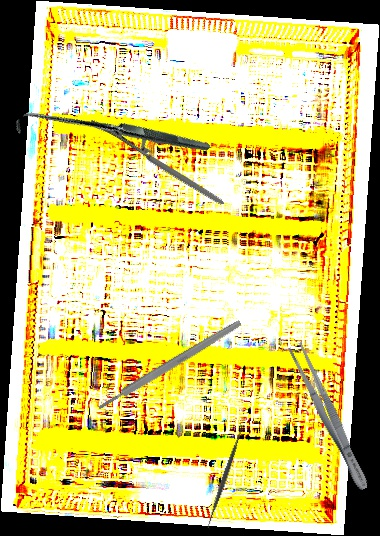Dressing Forceps: (284, 340, 375, 494)
Hook Surgical: (12, 36, 211, 236)
Needle Holder: (87, 87, 225, 239)
Scalpel Handle: (96, 318, 243, 412)
Spatula Surgical: (201, 422, 249, 530)
